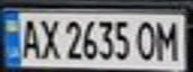2: (60, 16, 84, 61)
3: (97, 17, 118, 61)
5: (112, 17, 136, 62)
6: (78, 17, 100, 61)
A: (15, 15, 45, 61)
M: (151, 17, 184, 62)
O: (133, 17, 160, 62)
X: (36, 15, 60, 61)
